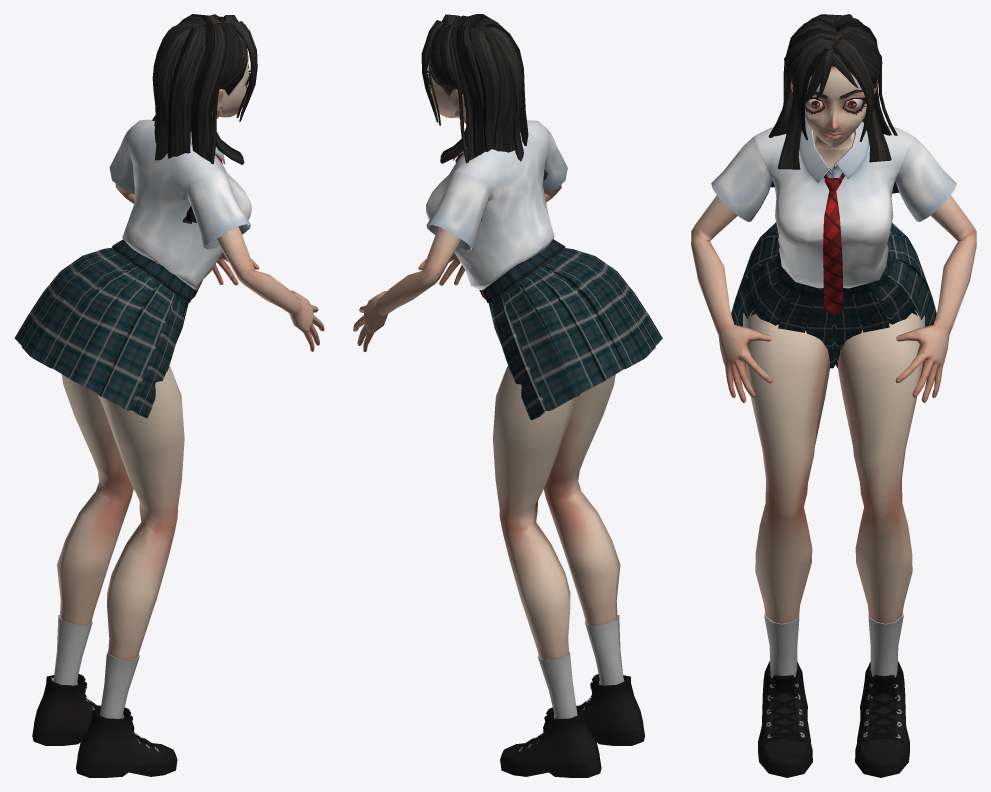
The model's file is college_girl_ridicka.glb.
The picture shows the model from 3 angles, left to right: view 1: azimuth 30°, elevation 25°; view 2: azimuth 150°, elevation 25°; view 3: azimuth 270°, elevation 25°; orthographic projection. The views are drawn at different scales.
Size of the model in its own units: 0.5871 by 1.57 by 0.5165.
Materials: 3 (3 with a texture image).
